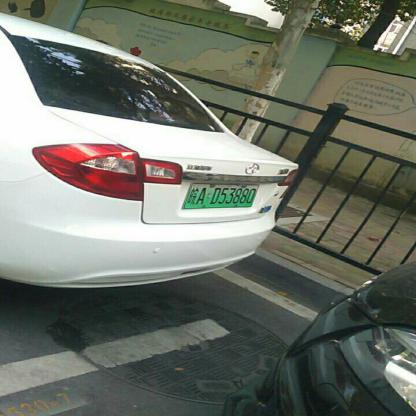lp: (183, 182, 261, 209)
